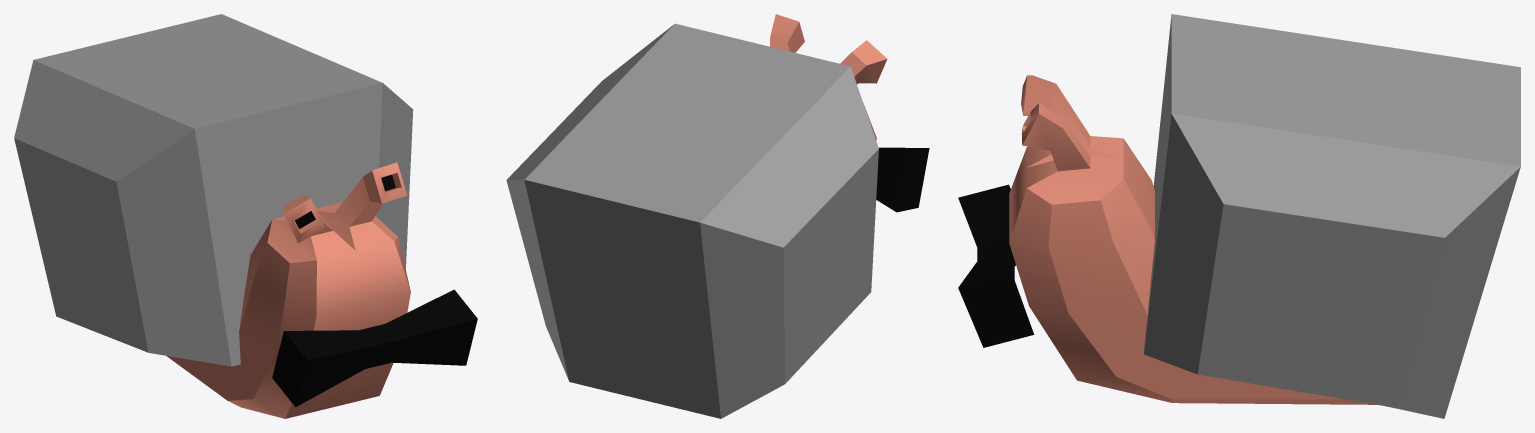
The model's file is FNG_SnailGood.fbx.
3 views of the same model, side by side, from view 1: azimuth 30°, elevation 25°; view 2: azimuth 150°, elevation 25°; view 3: azimuth 270°, elevation 25° (orthographic). The views are drawn at different scales.
Visible parts, largest first — view 1: Cube, Cube.001, Plane; view 2: Cube, Plane, Cube.001; view 3: Cube, Cube.001, Plane.
Boxes of the visible parts, left/top/right/bottom form: Cube: left=14, top=14, right=413, bottom=366; Cube.001: left=167, top=162, right=410, bottom=418; Plane: left=272, top=289, right=477, bottom=407; Cube: left=506, top=23, right=878, bottom=418; Plane: left=876, top=147, right=929, bottom=212; Cube.001: left=770, top=14, right=887, bottom=140; Cube: left=1144, top=14, right=1520, bottom=418; Cube.001: left=1009, top=75, right=1376, bottom=404; Plane: left=958, top=184, right=1034, bottom=347.
Size of the model in its own units: 269 by 253 by 408.
